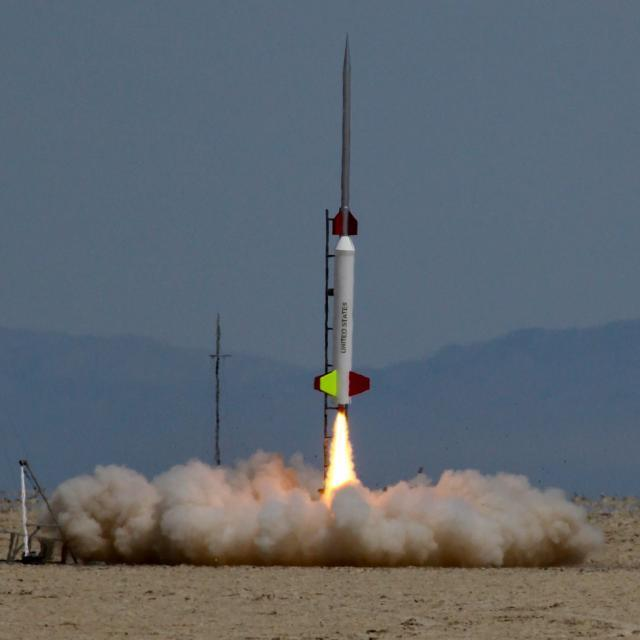missile: (312, 29, 374, 408), (317, 217, 371, 405), (326, 23, 361, 240)
